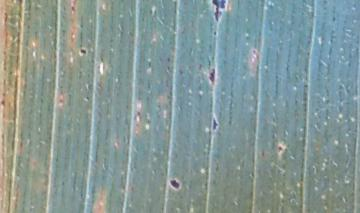tarspot: (208, 1, 229, 27), (209, 112, 221, 139), (166, 174, 184, 191), (206, 65, 218, 86), (75, 45, 91, 58), (276, 143, 286, 154)
